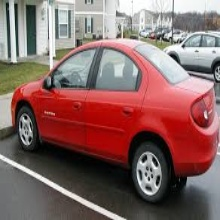no damage: (11, 38, 220, 205)
